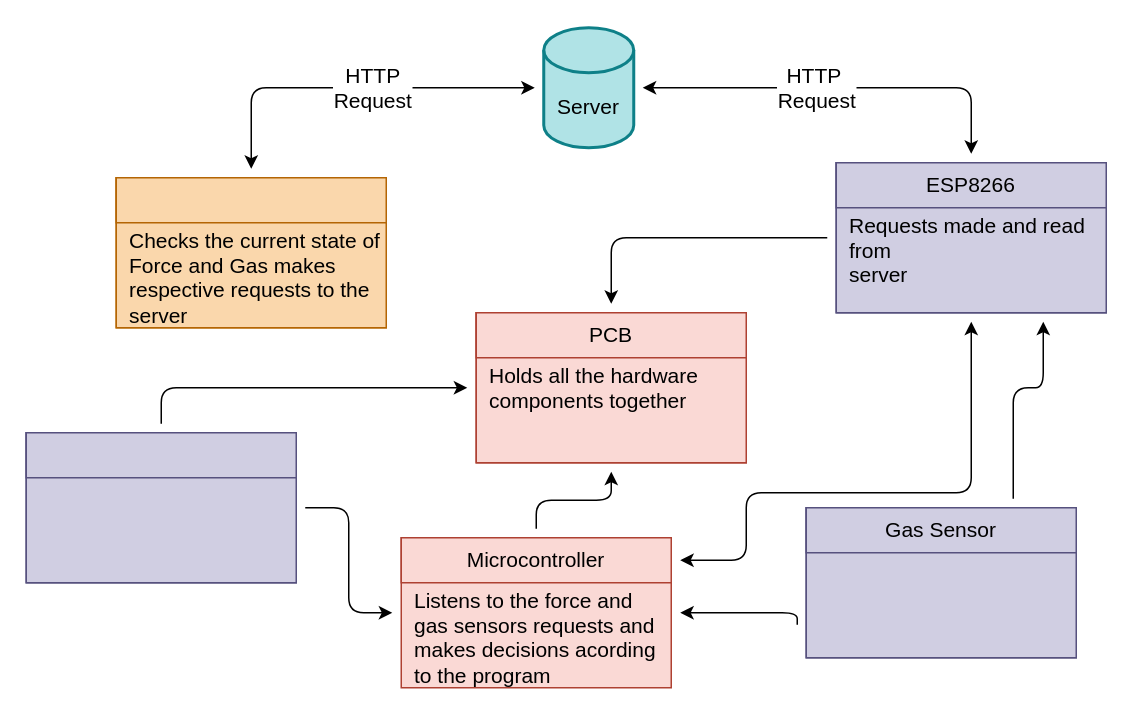
The diagram is 1133 pixels wide and 714 high, and some of its shapes have lost their labels. Each missing label, with the box of its shape:
Detects weight of the gas cylinder: (25, 431, 296, 583)
Flutter Application: (115, 176, 386, 223)
Force Sensor: (25, 431, 296, 478)
Reads the surrounding atmospheric gas readings.: (805, 506, 1076, 658)
